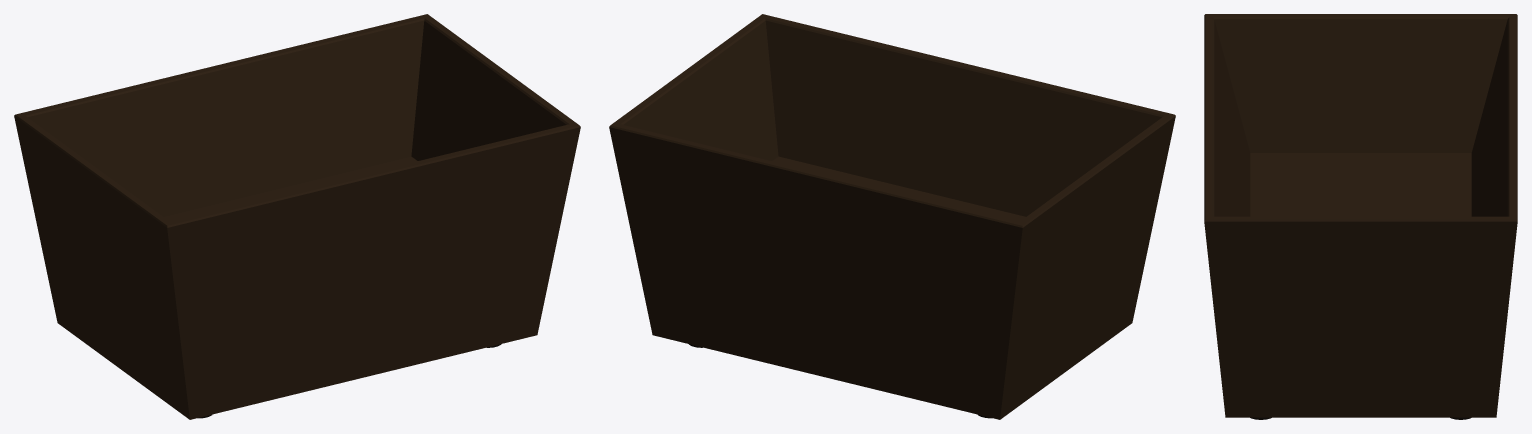
Rendered from Outdoor_Basket.FBX.
The picture shows the model from 3 angles, left to right: view 1: azimuth 30°, elevation 25°; view 2: azimuth 150°, elevation 25°; view 3: azimuth 270°, elevation 25°; orthographic projection. The views are drawn at different scales.
Parts seen in each view (by area): view 1: Basket_LP; view 2: Basket_LP; view 3: Basket_LP.
Boxes of the visible parts, bbox=[...] form: Basket_LP: bbox=[14, 14, 580, 419]; Basket_LP: bbox=[609, 14, 1175, 419]; Basket_LP: bbox=[1204, 14, 1517, 419].
Size of the model in its own units: 230 by 117 by 148.
